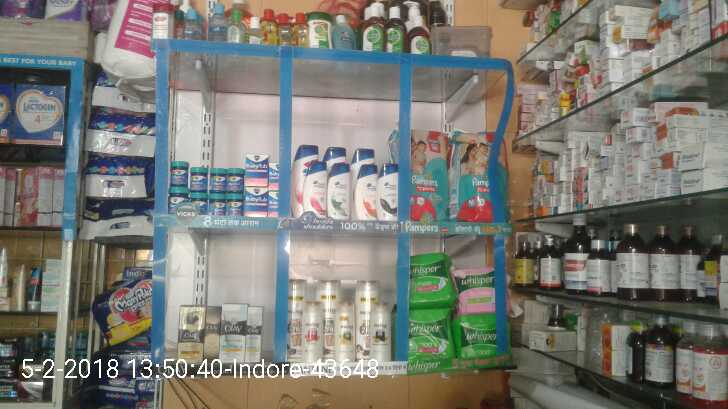beauty: (366, 304, 395, 363), (297, 304, 324, 367), (222, 304, 248, 365), (175, 306, 206, 357), (333, 305, 356, 370), (305, 162, 329, 220), (354, 166, 378, 217), (379, 167, 401, 219), (330, 164, 349, 217)
pharmacy: (169, 150, 279, 218), (452, 133, 511, 222), (407, 130, 452, 225), (408, 251, 454, 307), (407, 309, 455, 359), (452, 267, 502, 313), (457, 317, 508, 356)
